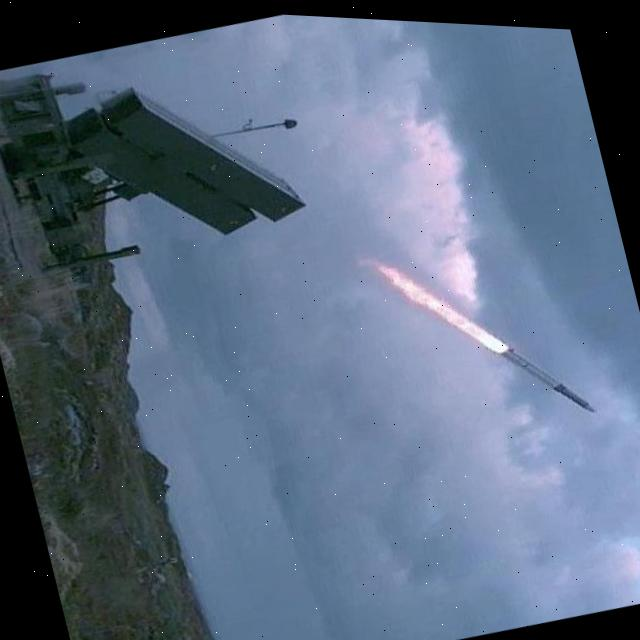missile: (500, 316, 610, 431)
